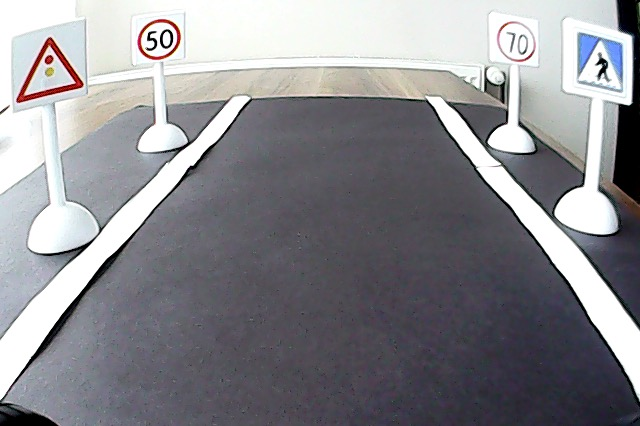pedestrian crossing: (573, 26, 629, 99)
red light: (16, 36, 85, 103)
speed limit 50: (138, 19, 181, 62)
speed limit 70: (493, 18, 538, 61)
